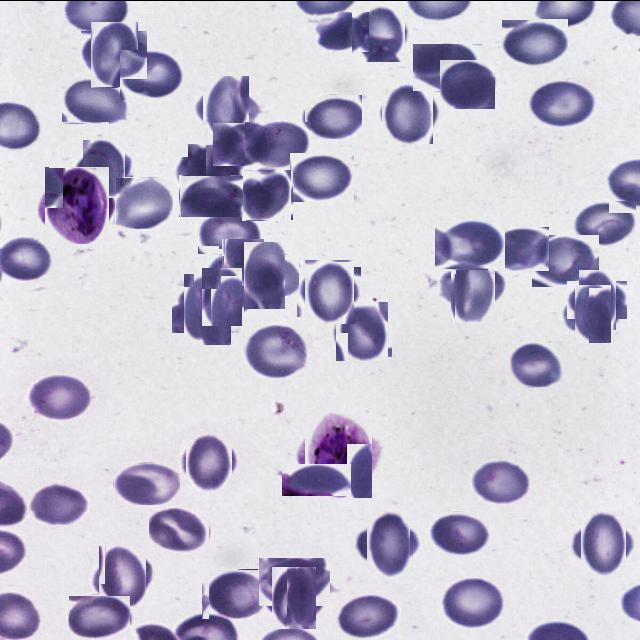red blood cell: (438, 575, 506, 630), (528, 77, 596, 130), (178, 278, 238, 338), (243, 322, 307, 378), (258, 556, 330, 605), (435, 220, 505, 270), (532, 234, 599, 286), (300, 262, 358, 320), (574, 514, 632, 572), (378, 83, 436, 141), (412, 42, 482, 90), (26, 373, 95, 421), (120, 49, 185, 99), (61, 75, 128, 123), (86, 26, 143, 82), (501, 18, 568, 65), (334, 302, 390, 358), (290, 152, 354, 201), (198, 79, 254, 135), (360, 516, 416, 572), (446, 259, 502, 315), (216, 244, 272, 300), (202, 568, 264, 618), (95, 548, 150, 604), (336, 594, 402, 640), (245, 121, 311, 167), (182, 150, 238, 204), (115, 176, 173, 228), (571, 200, 636, 245), (238, 248, 292, 302), (267, 570, 321, 624), (149, 506, 209, 554), (470, 457, 528, 506), (427, 510, 491, 554), (212, 121, 276, 165), (113, 462, 180, 504), (439, 58, 495, 108), (183, 435, 236, 487), (355, 6, 408, 58), (68, 594, 130, 638), (198, 210, 261, 253), (488, 226, 549, 270), (28, 481, 90, 524), (180, 174, 243, 216), (304, 93, 362, 138), (242, 169, 292, 220), (508, 340, 563, 386), (79, 144, 129, 194), (572, 274, 622, 324), (198, 271, 247, 321), (568, 290, 616, 338), (282, 463, 351, 495), (314, 12, 369, 52)
schizont: (301, 417, 377, 492), (41, 168, 113, 240)
